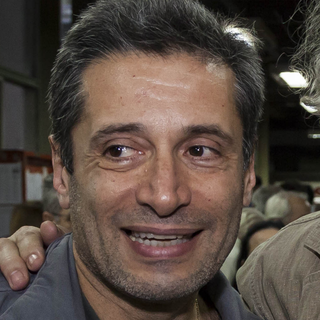eye: (95, 139, 147, 168), (178, 139, 226, 168)
